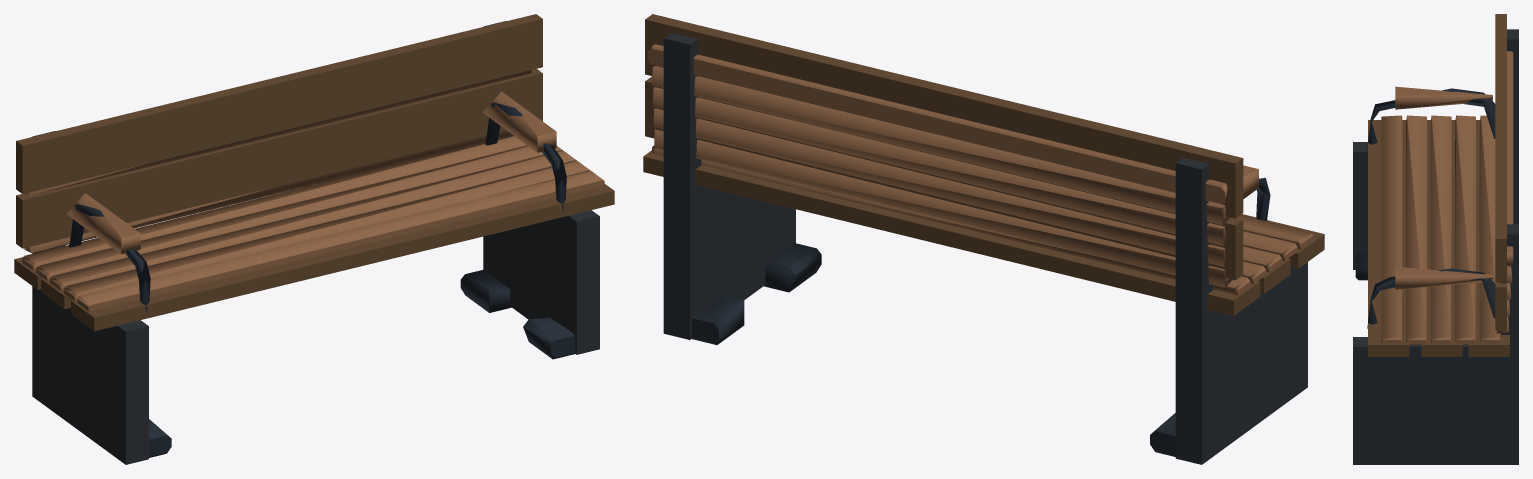
File: bench.glb
3 renders of one model, left to right at view 1: azimuth 30°, elevation 25°; view 2: azimuth 150°, elevation 25°; view 3: azimuth 270°, elevation 25°, orthographic. The views are drawn at different scales.
Parts seen in each view (by area): view 1: Bench_Slats, Bench_Armrests, Bench_Legs; view 2: Bench_Armrests, Bench_Legs, Bench_Slats; view 3: Bench_Armrests, Bench_Legs, Bench_Slats.
Part boxes in pixels (box(x1,y1,x2,y2)): Bench_Slats: box(14, 14, 614, 331); Bench_Armrests: box(22, 70, 604, 457); Bench_Legs: box(32, 21, 599, 464); Bench_Armrests: box(647, 44, 1313, 456); Bench_Legs: box(663, 33, 1307, 464); Bench_Slats: box(643, 14, 1324, 315); Bench_Armrests: box(1355, 51, 1513, 344); Bench_Legs: box(1353, 29, 1518, 464); Bench_Slats: box(1368, 14, 1509, 356).
Bounding box in the file's own units: 1.8 × 0.8855 × 0.56.
